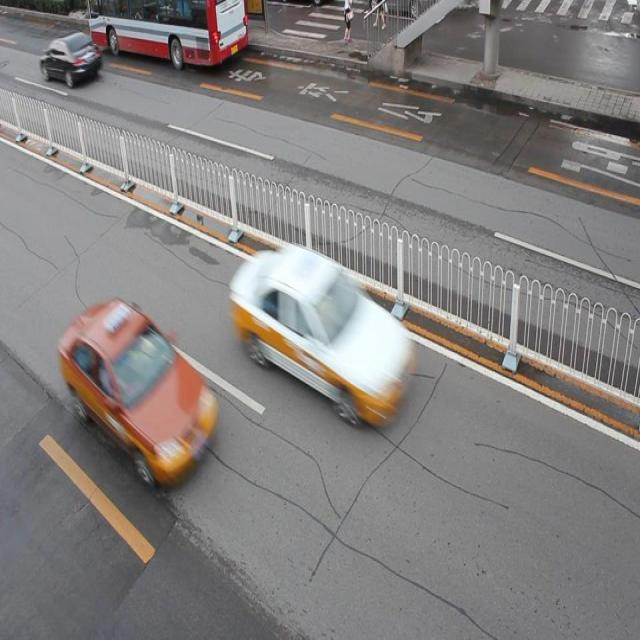car: (232, 242, 417, 424), (59, 296, 219, 480), (40, 31, 102, 86)
van: (88, 1, 247, 64)
